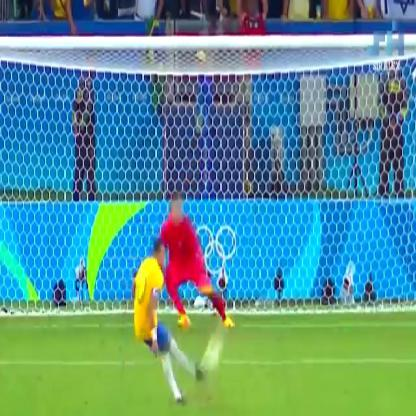penalty kick: (85, 30, 246, 412)
